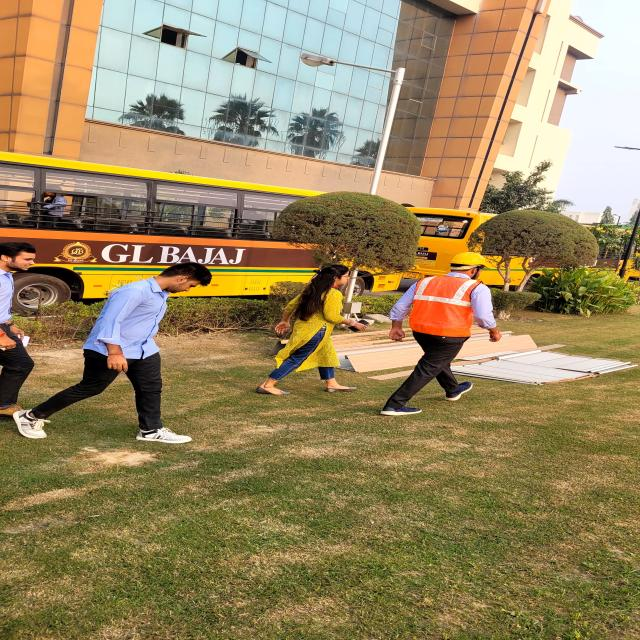safe: (390, 253, 504, 422)
unsafe: (21, 261, 221, 448), (272, 262, 368, 394), (35, 186, 67, 231)
